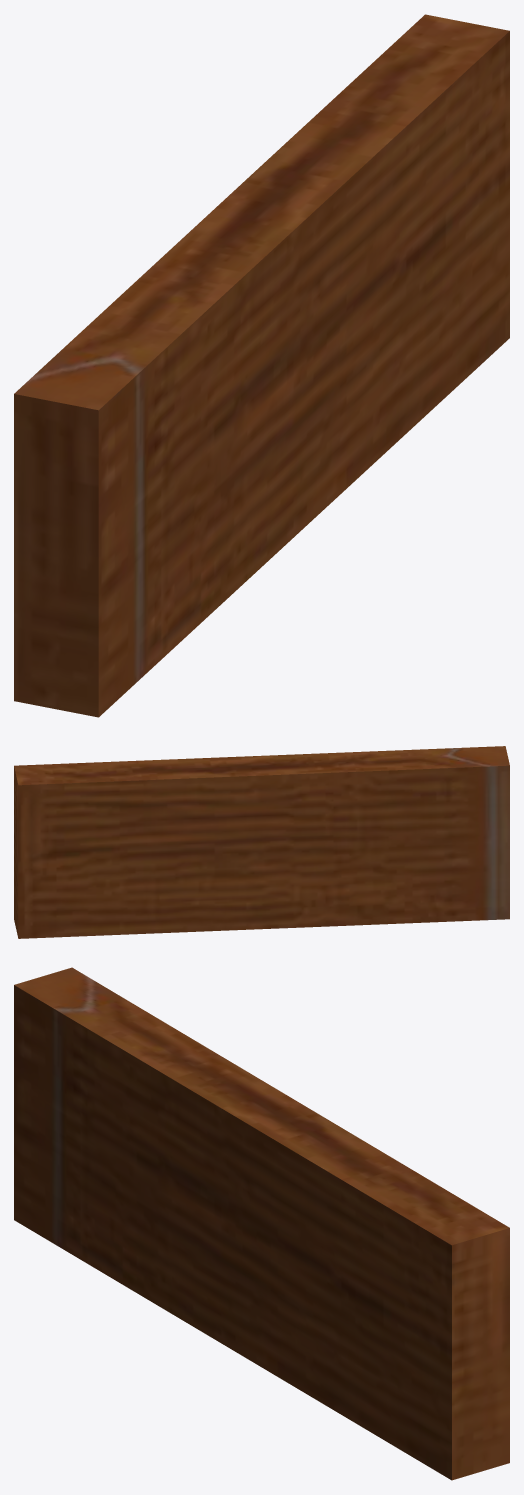
Rendered from brace__link.glb.
3 views of the same model, one above another, from view 1: azimuth 30°, elevation 25°; view 2: azimuth 150°, elevation 25°; view 3: azimuth 270°, elevation 25° (orthographic). The views are drawn at different scales.
Visible parts, largest first — view 1: geometry_0; view 2: geometry_0; view 3: geometry_0.
Part boxes in pixels (x1,y1,x2,y2): geometry_0: (14,14,509,717); geometry_0: (14,746,509,938); geometry_0: (14,967,509,1480).
Bounding box in the file's own units: 0.2027 × 0.08 × 0.1529.
1 material, 1 textured.
